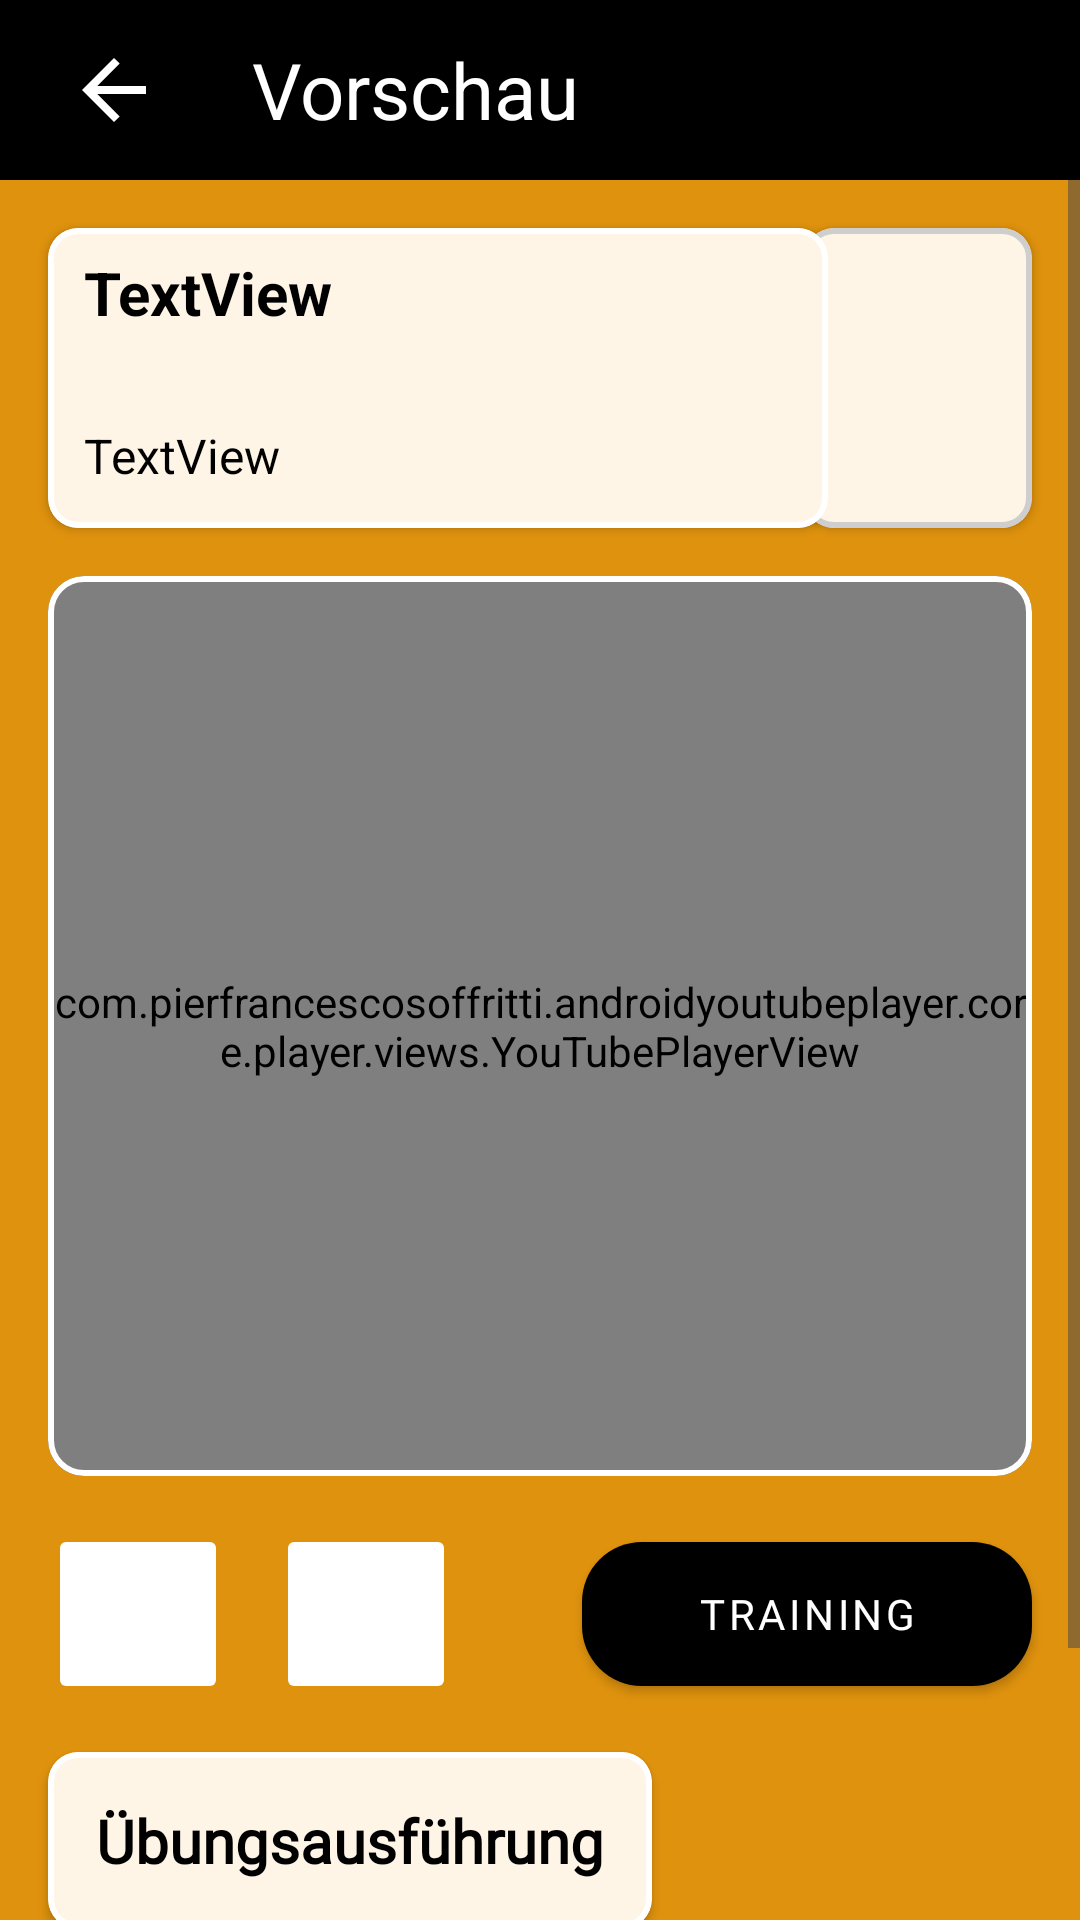

Screen size 1080 × 1920. Icon name, then its center in pixels as [x,y]:
Navigate back: [114,90]
